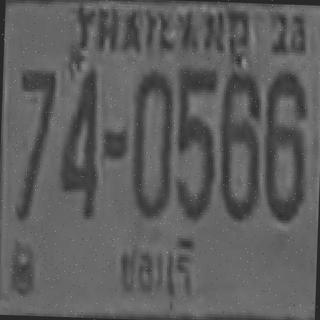N00: (128, 70, 172, 215)
N04: (57, 66, 100, 216)
N05: (173, 67, 216, 218)
N06: (261, 69, 306, 220), (215, 70, 260, 216)
N07: (16, 68, 56, 179), (17, 67, 56, 162)
P13: (110, 233, 200, 312)
